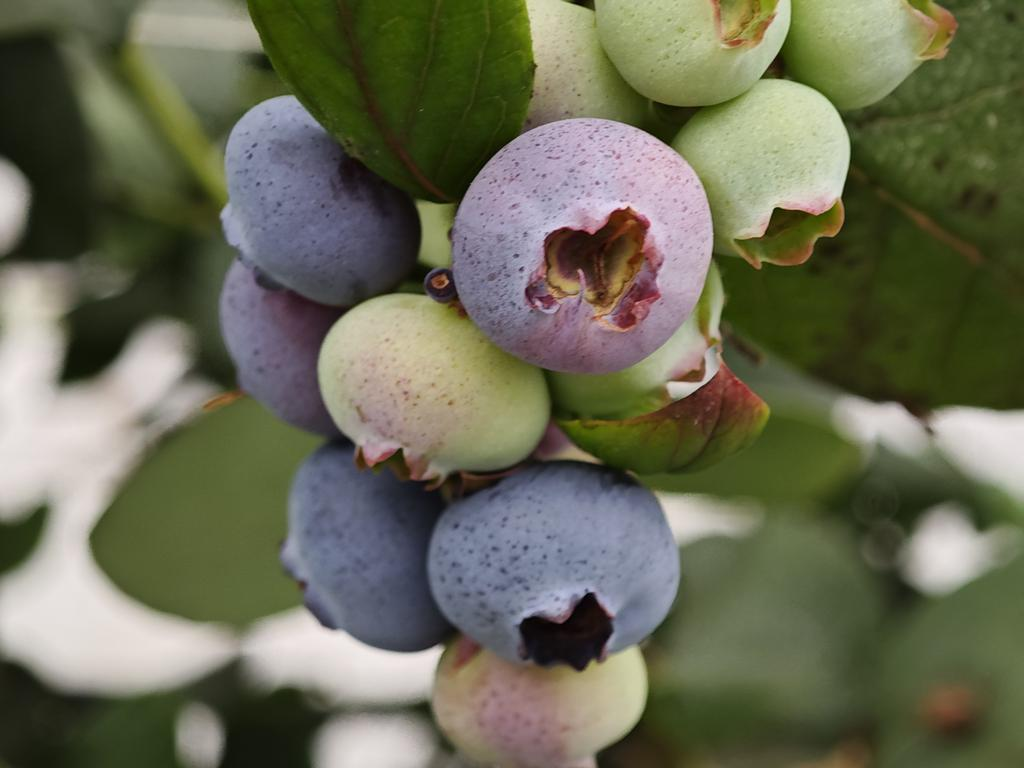RipeBlueBerry: (430, 468, 679, 667), (227, 92, 422, 310)
Semi-RipeBlueBerry: (454, 117, 711, 382)
UnripeBlueBerry: (320, 286, 558, 471)
